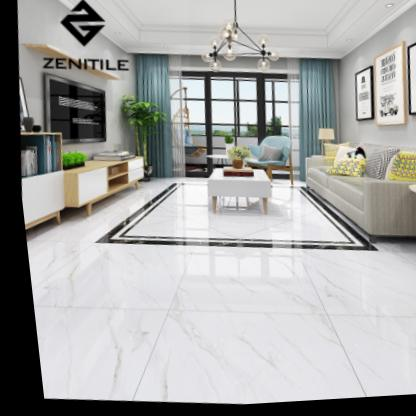Ceramic floor: (21, 183, 416, 407)
Curtains: (295, 62, 332, 186), (134, 57, 169, 180)
Frame: (373, 47, 402, 131), (353, 72, 369, 125), (406, 47, 416, 120)
Gypsum Board: (35, 0, 416, 84)
Sofa: (301, 147, 416, 242)
TV stand: (60, 158, 141, 218)
